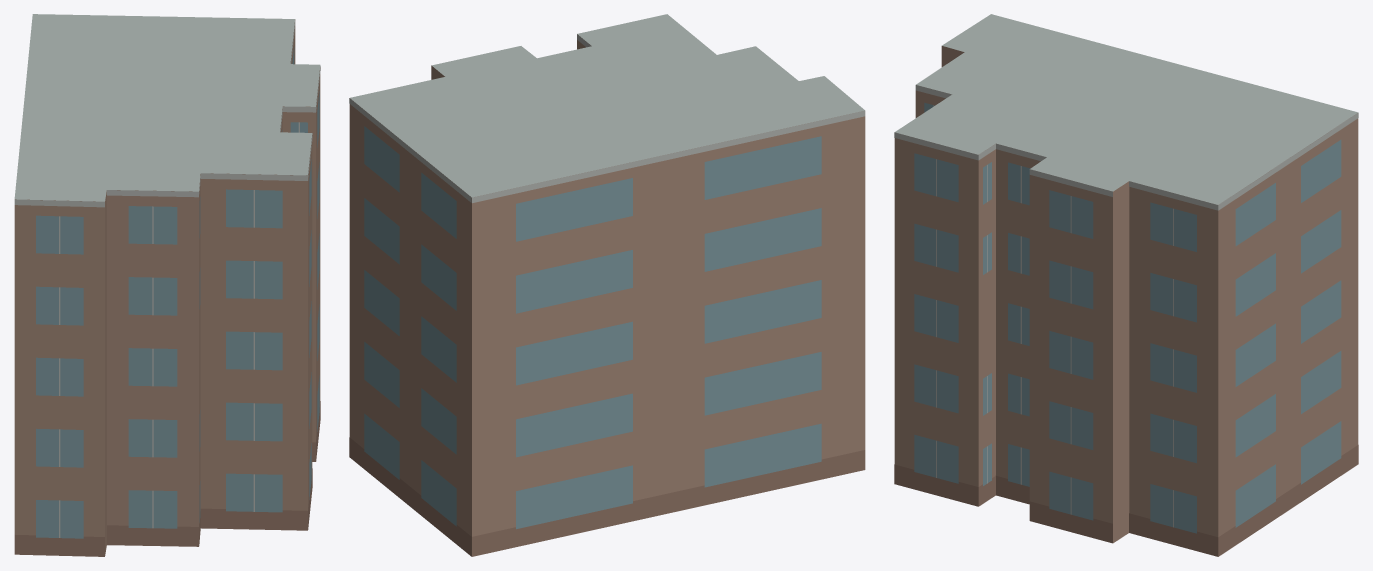
Rendered from survey-upis-32934172.glb.
The picture shows the model from 3 angles, left to right: view 1: azimuth 30°, elevation 25°; view 2: azimuth 150°, elevation 25°; view 3: azimuth 270°, elevation 25°; orthographic projection. The views are drawn at different scales.
Parts seen in each view (by area): view 1: survey-upis-32934172.tmp; view 2: survey-upis-32934172.tmp; view 3: survey-upis-32934172.tmp.
Part boxes in pixels (bbox=[...]): survey-upis-32934172.tmp: bbox=[14, 14, 320, 556]; survey-upis-32934172.tmp: bbox=[349, 14, 865, 556]; survey-upis-32934172.tmp: bbox=[894, 14, 1358, 556].
Size of the model in its own units: 17.83 by 15.3 by 18.3.
